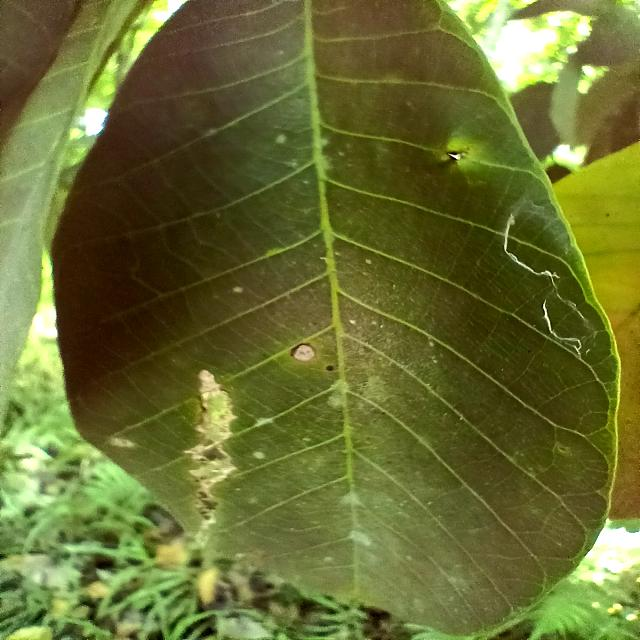Colletotrichum: (290, 343, 316, 361), (327, 365, 334, 371)
